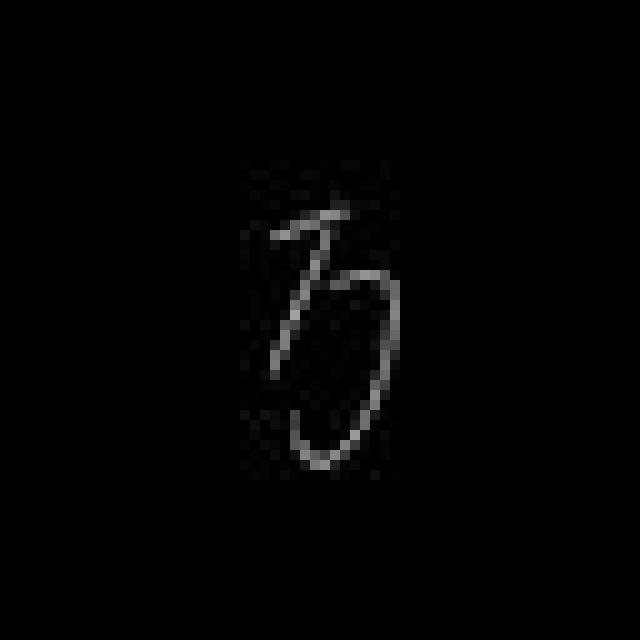10000 -a ten thousand-: (251, 188, 414, 480)
